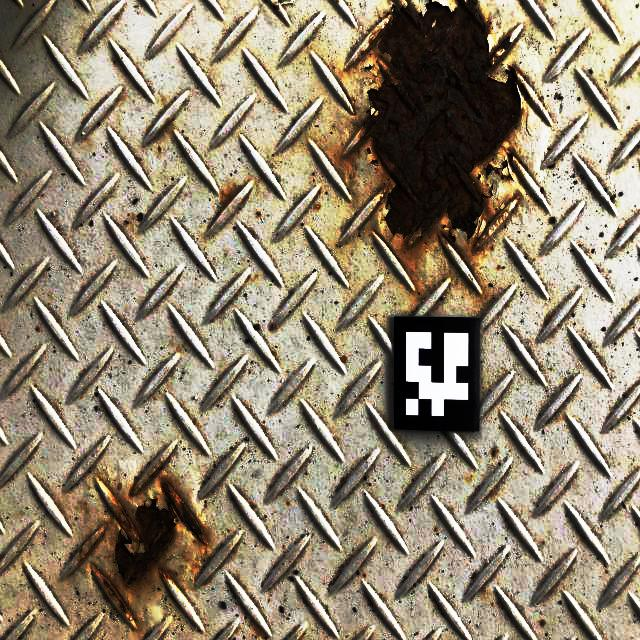Corrosion: (345, 0, 534, 252), (79, 460, 207, 628), (220, 186, 241, 214), (491, 448, 497, 457), (256, 211, 261, 217), (250, 504, 256, 509), (317, 189, 321, 195), (158, 146, 162, 152), (286, 502, 289, 505)
